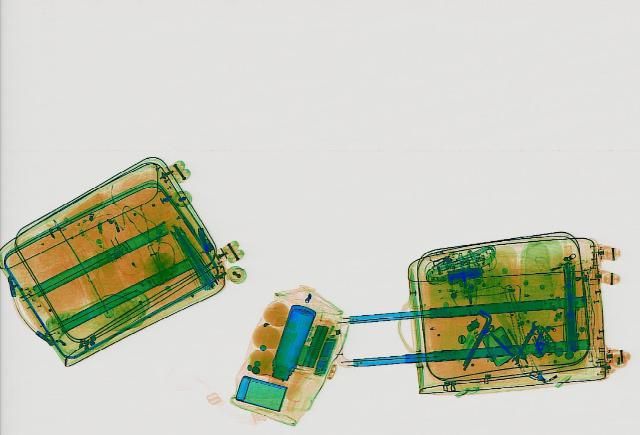Wrench: (505, 319, 543, 364)
